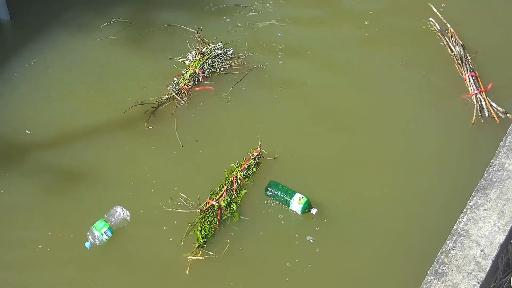plastic: (74, 203, 126, 256), (265, 184, 339, 218)
twig: (117, 18, 270, 131), (152, 136, 281, 262), (412, 0, 510, 123)
